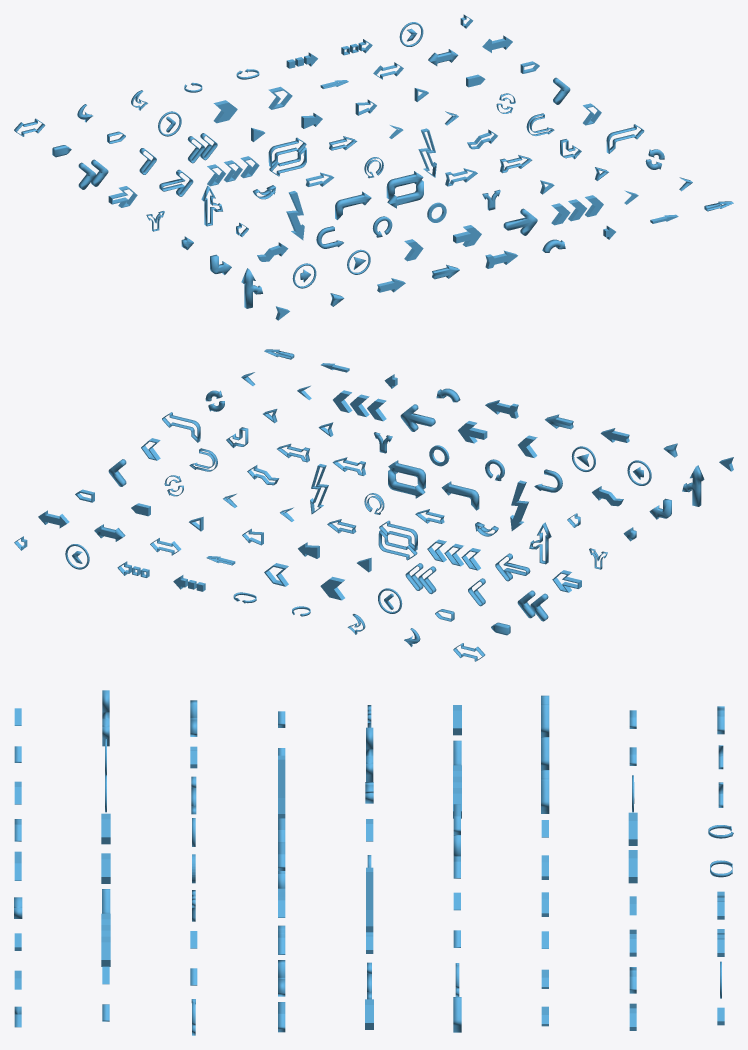
Rendered from Arrows.glb.
3 renders of one model, top to bottom at view 1: azimuth 30°, elevation 25°; view 2: azimuth 150°, elevation 25°; view 3: azimuth 270°, elevation 25°, orthographic. The views are drawn at different scales.
Visible parts, largest first — view 1: Arrow_50, Arrow_70, Arrow_31, Arrow_30, Arrow_19; view 2: Arrow_50, Arrow_70, Arrow_31, Arrow_30, Arrow_19; view 3: no part large enough to name.
Boxes of the visible parts, x1,y1,x2,y2 form: Arrow_50: (386,171,423,208); Arrow_70: (551,195,603,225); Arrow_31: (268,137,306,176); Arrow_30: (207,156,259,186); Arrow_19: (78,159,108,189); Arrow_50: (388,460,425,498); Arrow_70: (333,390,386,421); Arrow_31: (378,520,417,560); Arrow_30: (427,539,480,570); Arrow_19: (517,590,548,621).
Size of the model in its own units: 77.55 by 7.87 by 73.76.
